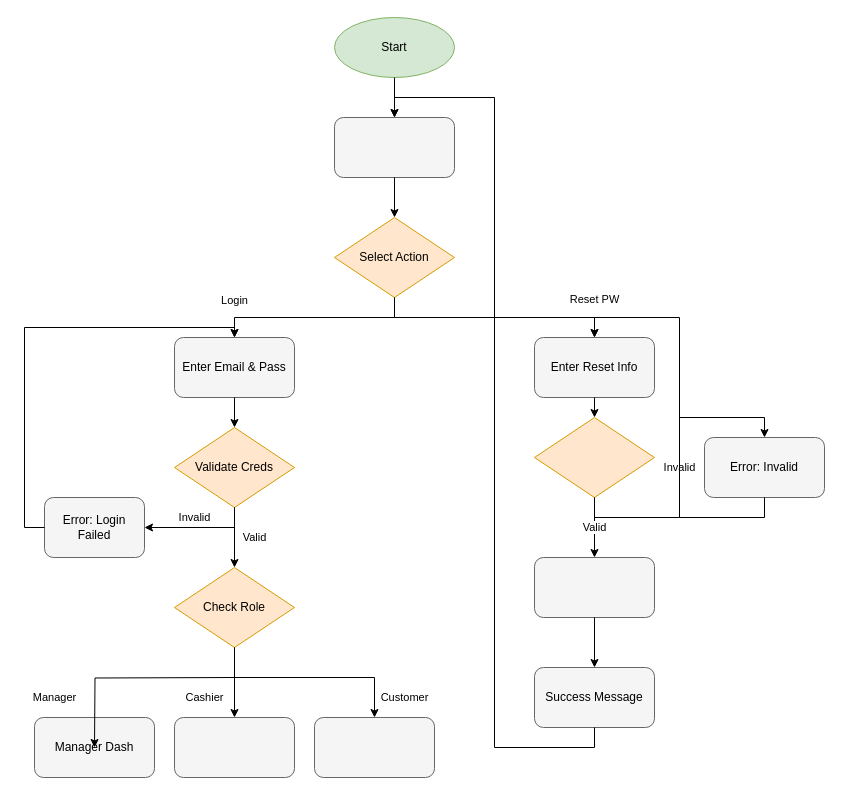
This 842x795 diagram has some shape labels left out. Here are the shapes that lost their labels. From the top down, the centre of each, then its label:
the point at 394,147: User Visits Login
the point at 594,457: Validate Old Info
the point at 594,587: Update Password
the point at 234,747: Cashier Dash
the point at 374,747: Customer Dash
